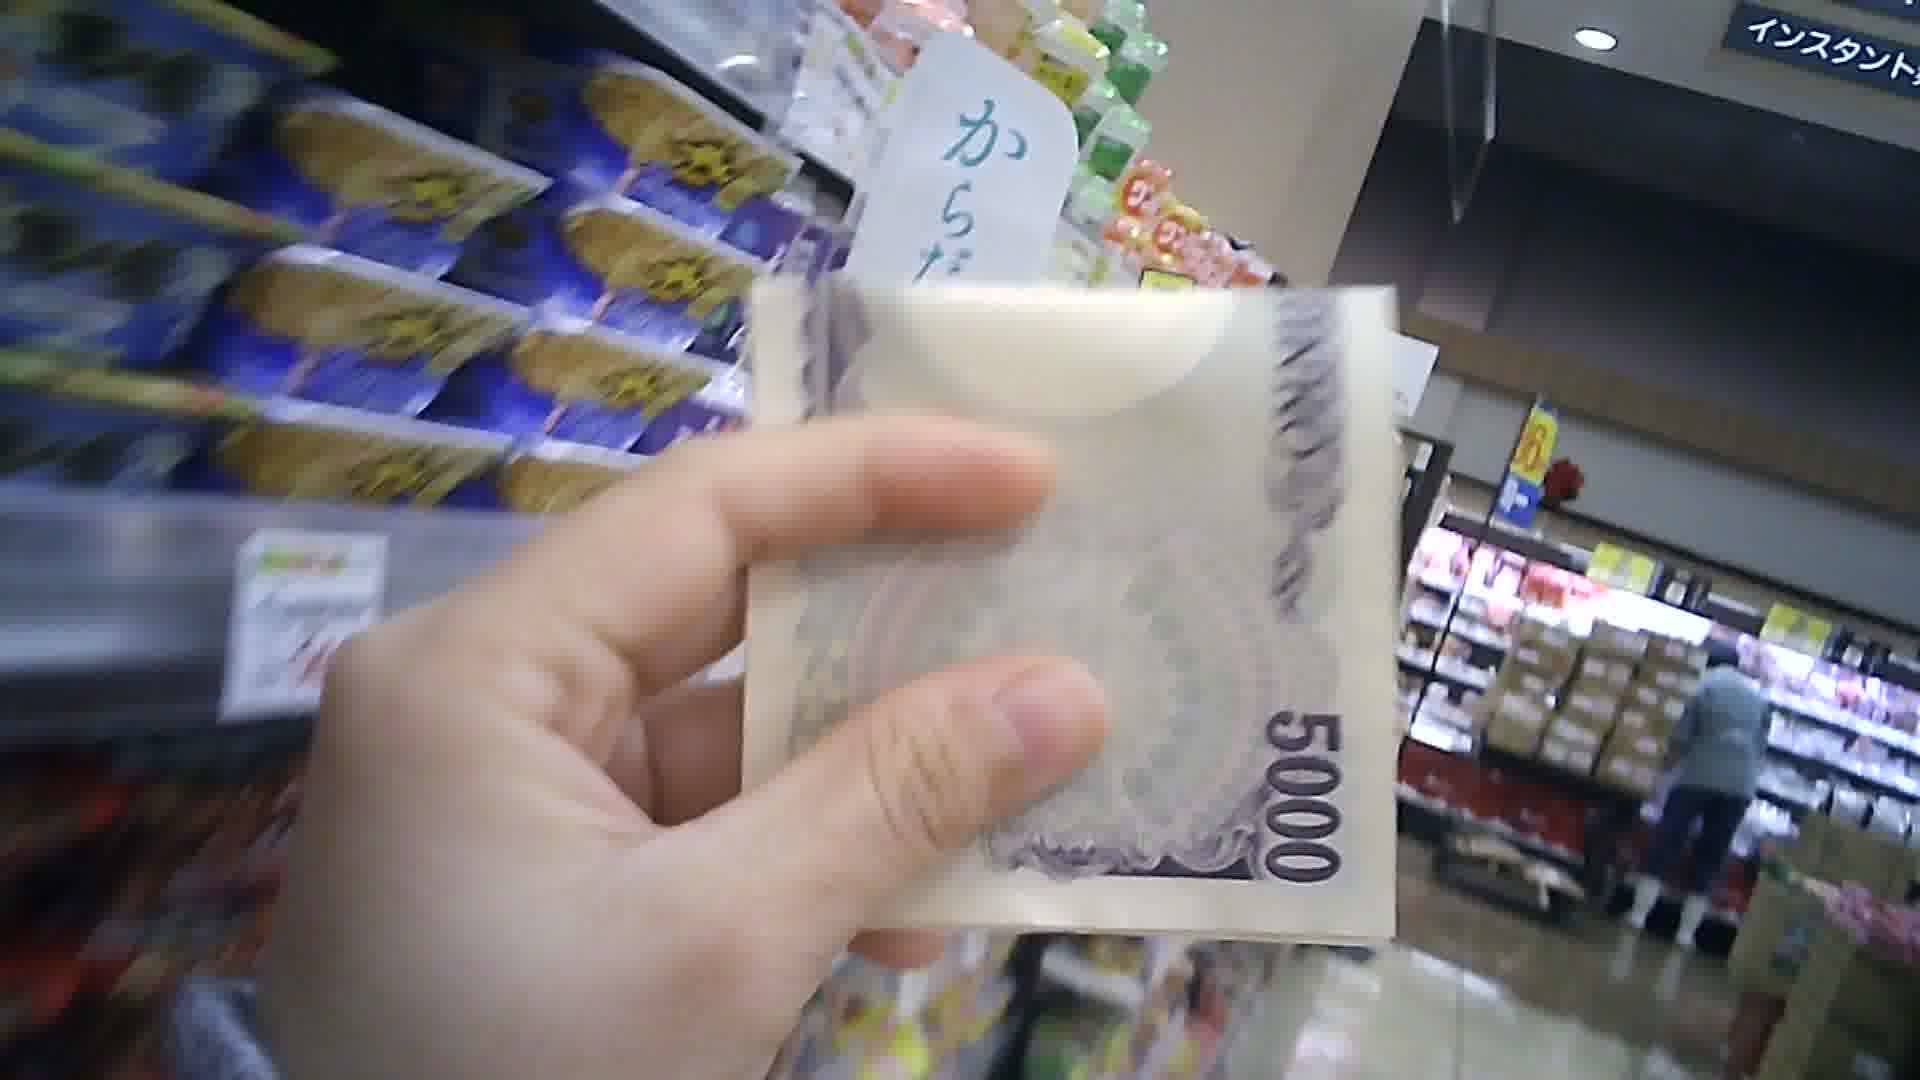5,000 Yen: (713, 241, 1404, 953)
